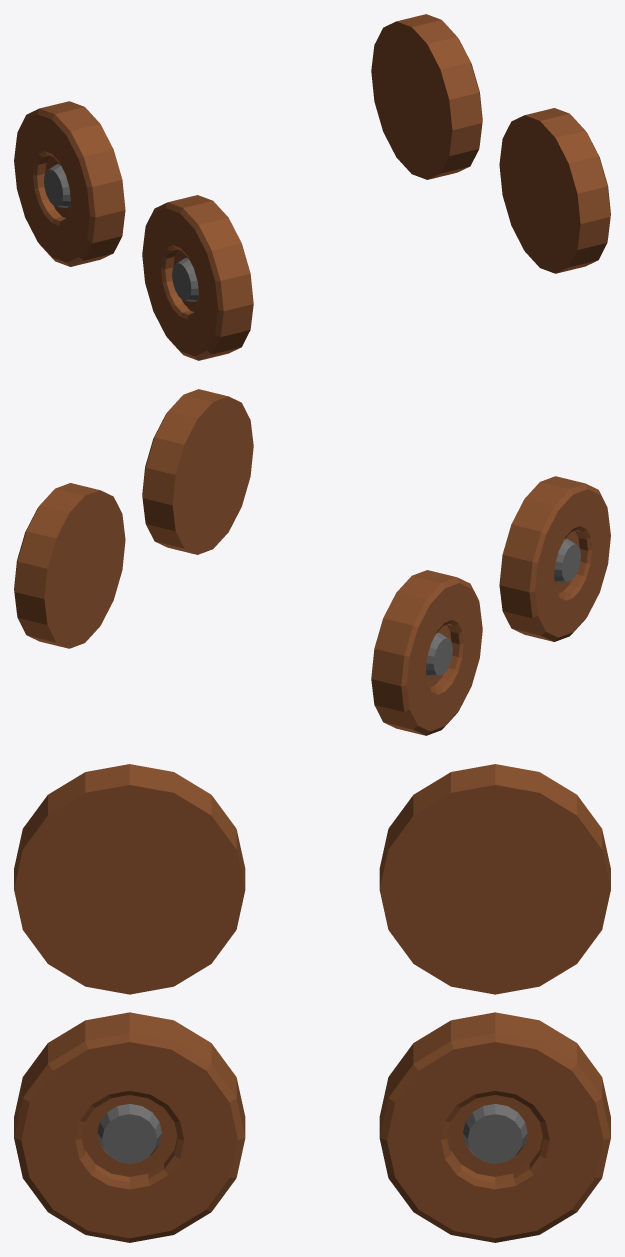
The model's file is legsOldWheels.fbx.
The picture shows the model from 3 angles, top to bottom: view 1: azimuth 30°, elevation 25°; view 2: azimuth 150°, elevation 25°; view 3: azimuth 270°, elevation 25°; orthographic projection. The views are drawn at different scales.
Visible parts, largest first — view 1: Legs - Old Wheels; view 2: Legs - Old Wheels; view 3: Legs - Old Wheels.
Part boxes in pixels (x1,y1,x2,y2): Legs - Old Wheels: (14,14,610,360); Legs - Old Wheels: (14,389,610,735); Legs - Old Wheels: (14,764,610,1242).
Size of the model in its own units: 94.73 by 87.43 by 33.89.
